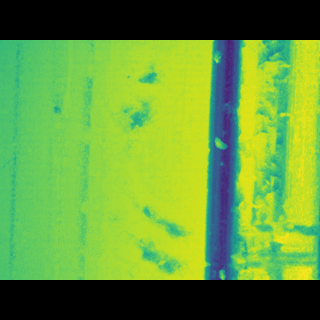Loch: (90, 73, 200, 250), (226, 68, 320, 245)
